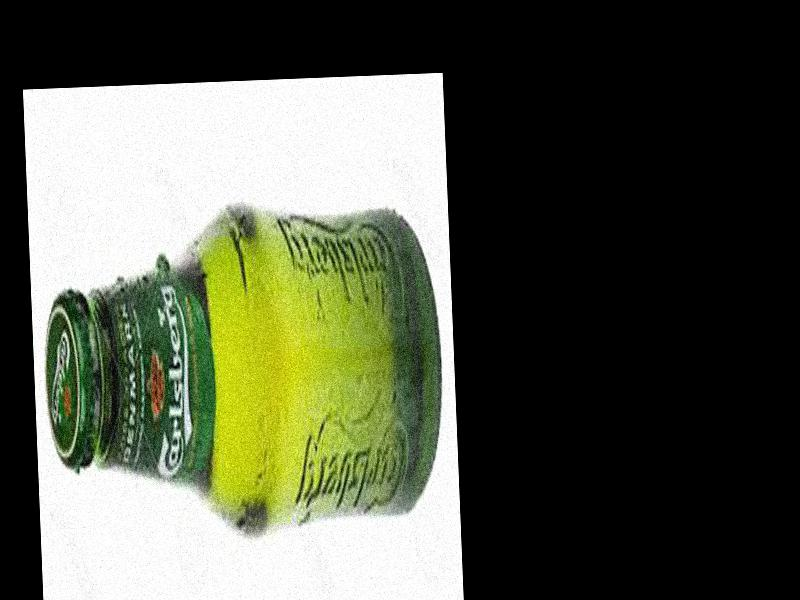Beer: (38, 199, 449, 547)
